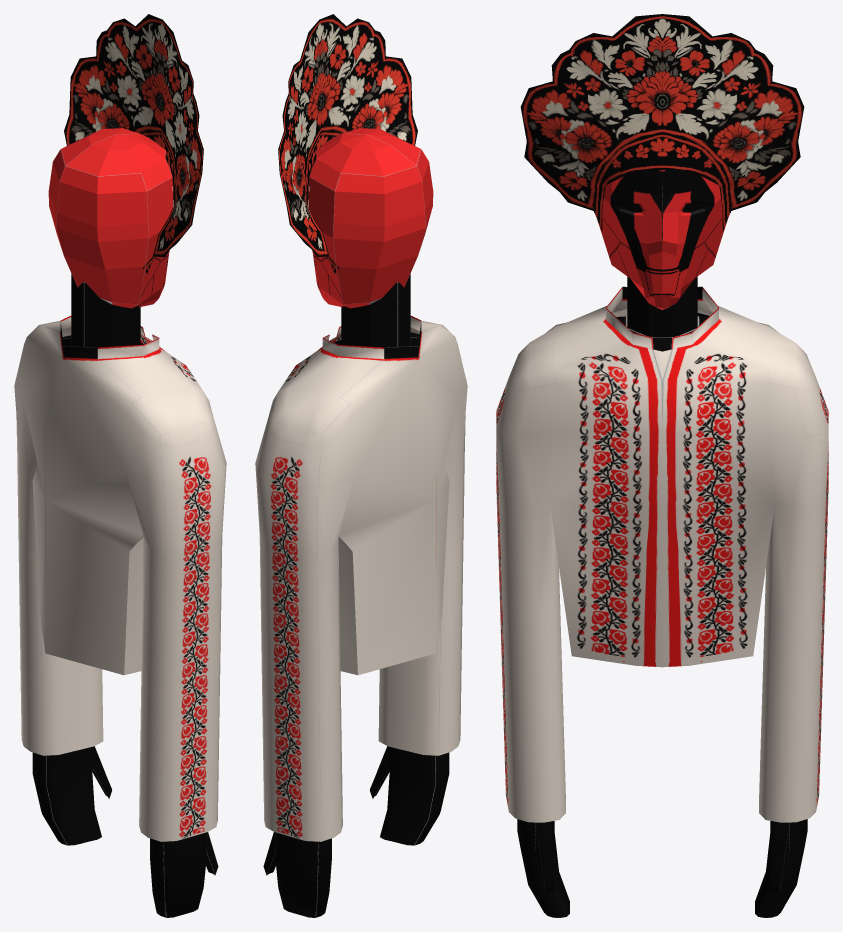
The model's file is Robot insurance.fbx.
The picture shows the model from 3 angles, left to right: view 1: azimuth 30°, elevation 25°; view 2: azimuth 150°, elevation 25°; view 3: azimuth 270°, elevation 25°; orthographic projection. The views are drawn at different scales.
Visible parts, largest first — view 1: Cube.003, Head.001, Plane, Cube; view 2: Cube.003, Head.001, Plane, Cube; view 3: Cube.003, Plane, Head.001, Cube.
Part boxes in pixels (box(x1,y1,x2,y2)): Cube.003: box(14, 316, 226, 917); Head.001: box(48, 128, 172, 308); Plane: box(64, 14, 203, 273); Cube: box(62, 274, 143, 347); Cube.003: box(255, 316, 467, 917); Head.001: box(309, 128, 433, 308); Plane: box(278, 14, 417, 273); Cube: box(334, 274, 419, 347); Cube.003: box(496, 286, 828, 917); Plane: box(520, 14, 804, 230); Head.001: box(597, 170, 727, 309); Cube: box(616, 277, 709, 351).
Bounding box in the file's own units: 0.2458 × 1.47 × 0.4862.
